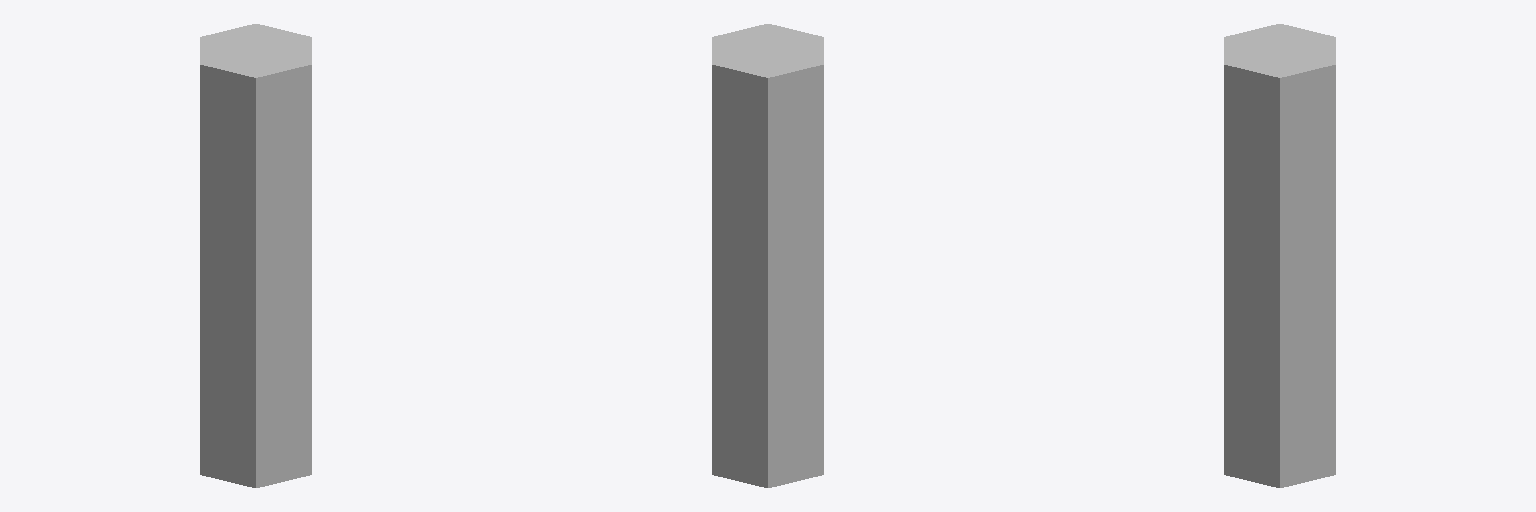
Rendered from PLAG_SimpleBldg_07.obj.
3 views of the same model, side by side, from view 1: azimuth 30°, elevation 25°; view 2: azimuth 150°, elevation 25°; view 3: azimuth 270°, elevation 25° (orthographic).
Parts seen in each view (by area): view 1: PLAG_SimpleBldg_07; view 2: PLAG_SimpleBldg_07; view 3: PLAG_SimpleBldg_07.
Boxes of the visible parts, x1,y1,x2,y2 form: PLAG_SimpleBldg_07: [200, 24, 311, 487]; PLAG_SimpleBldg_07: [712, 24, 823, 487]; PLAG_SimpleBldg_07: [1224, 24, 1335, 487].
Size of the model in its own units: 200 by 700 by 173.